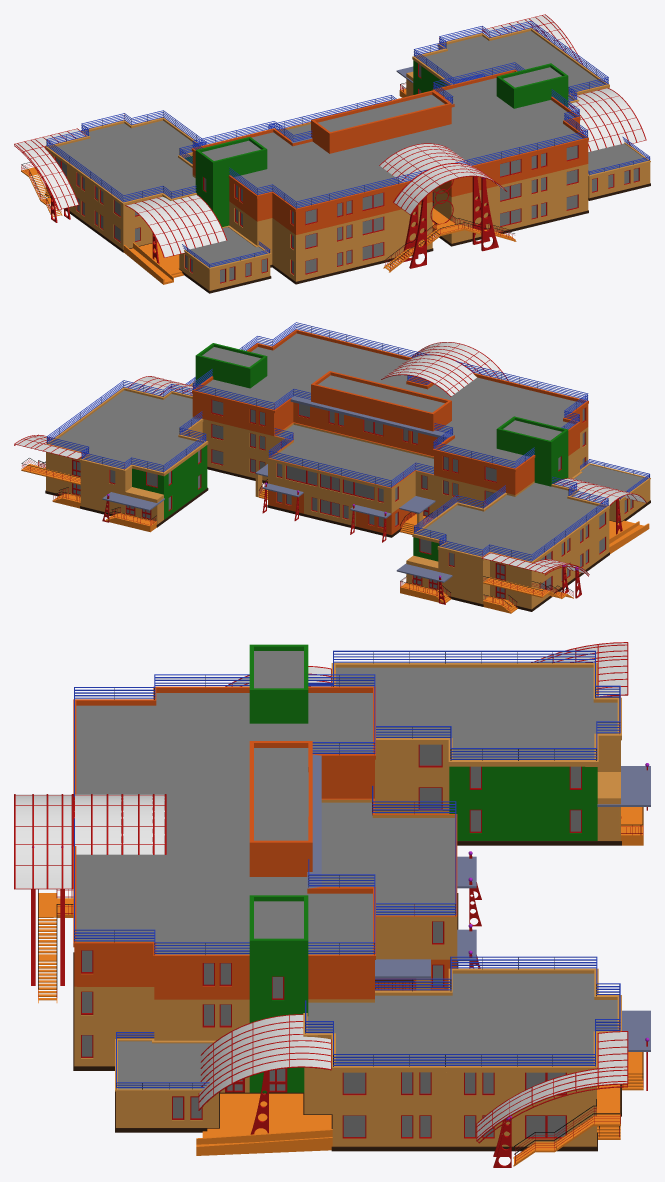
Rendered from Kindergarten.FBX.
The picture shows the model from 3 angles, top to bottom: view 1: azimuth 30°, elevation 25°; view 2: azimuth 150°, elevation 25°; view 3: azimuth 270°, elevation 25°; orthographic projection. The views are drawn at different scales.
Parts seen in each view (by area): view 1: Kindergarten01; view 2: Kindergarten01; view 3: Kindergarten01.
Part boxes in pixels (box(x1,y1,x2,y2)): Kindergarten01: box(14, 14, 650, 293); Kindergarten01: box(14, 322, 650, 613); Kindergarten01: box(14, 642, 650, 1167).
Bounding box in the file's own units: 72.65 × 12.47 × 44.26.
